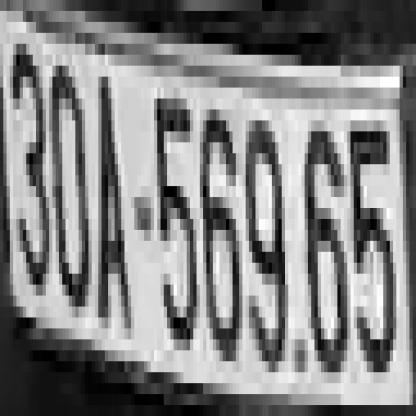0: (52, 76, 92, 296)
3: (13, 43, 46, 284)
5: (157, 98, 197, 340), (350, 131, 390, 362)
6: (301, 131, 344, 362), (203, 121, 239, 350)
9: (242, 131, 282, 362)
A: (102, 76, 128, 328)
